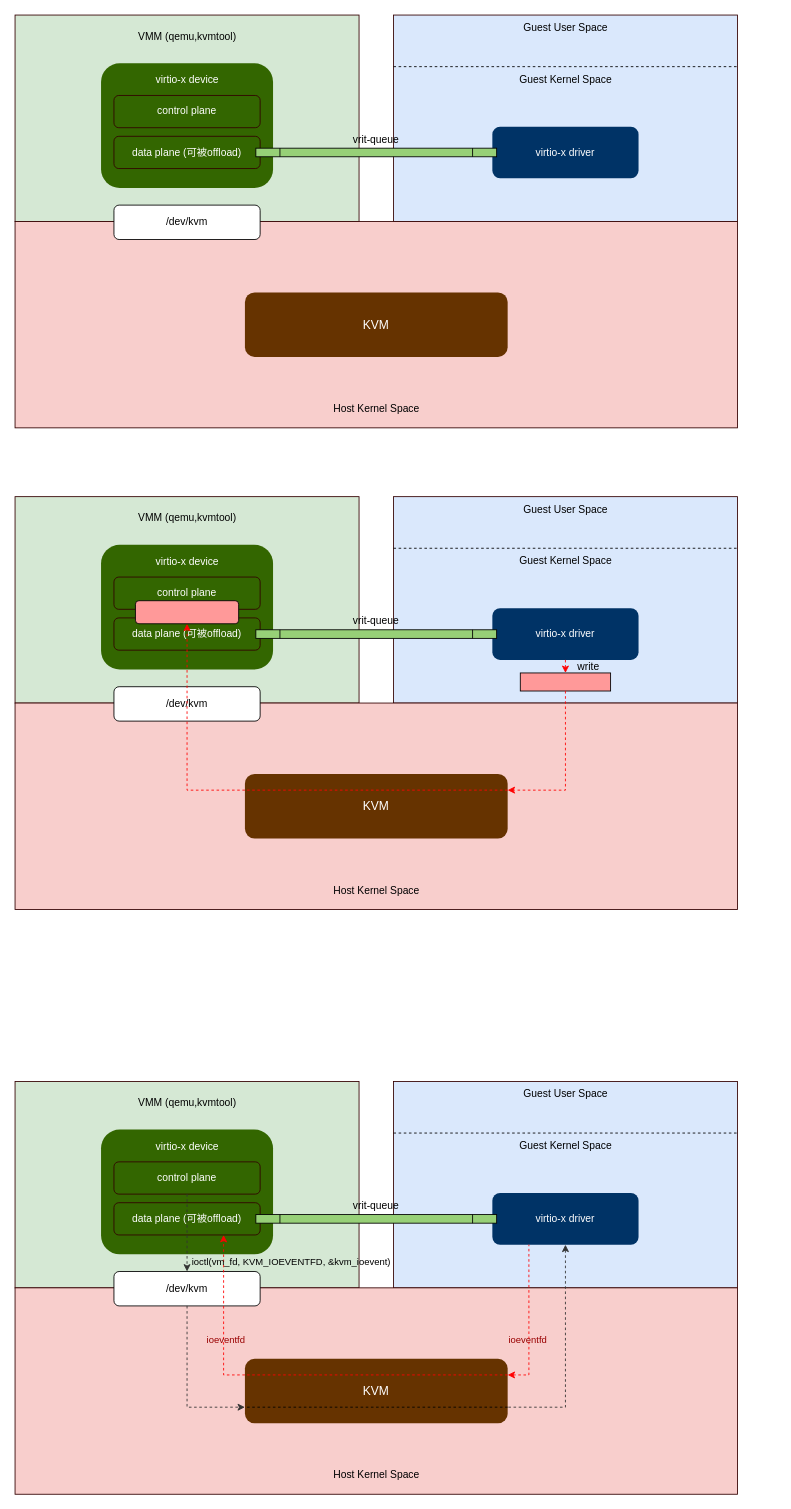
Image size: 791x1509. Some labels were removed from this diagram. Here are the shapes that lost their labels. From the top down, the centre of each, then its label:
At (187,612): "触发callback".
At (565,681): "BAR-Region".
